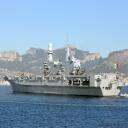Portanaves: (4, 34, 128, 100)
